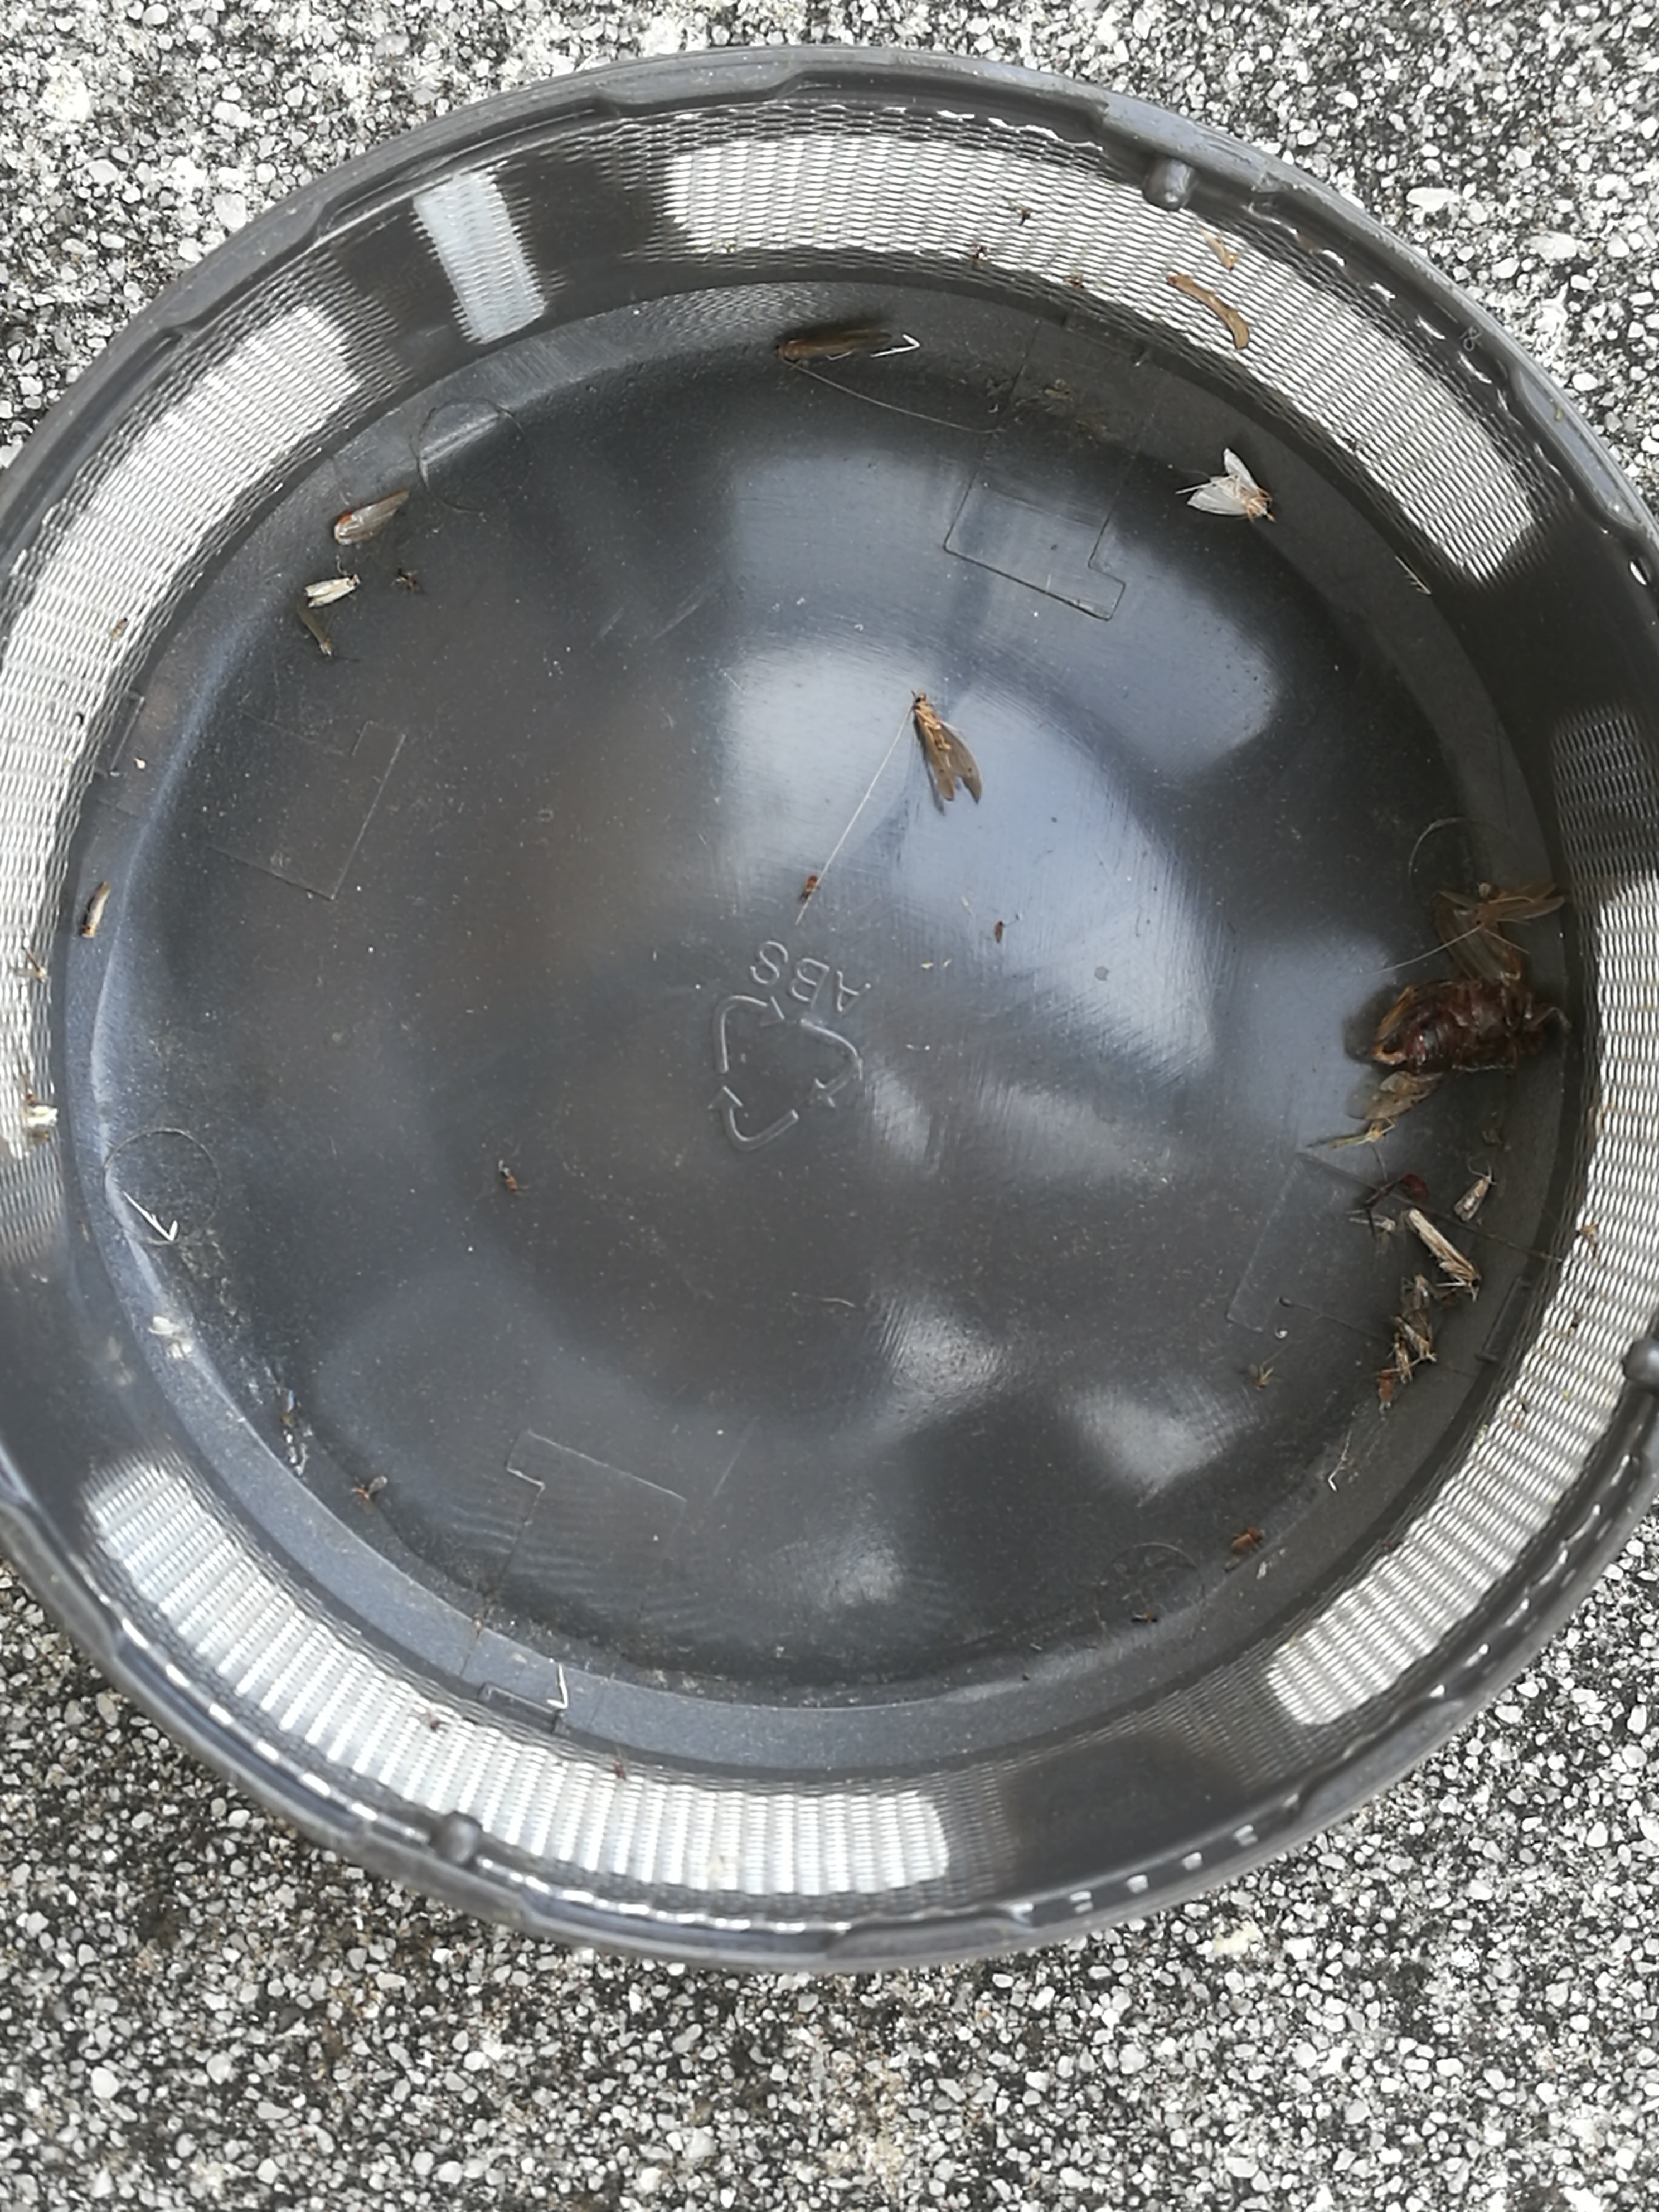beetle: (1375, 979, 1546, 1071)
mosquito: (1405, 1209, 1481, 1296), (774, 329, 894, 357), (1392, 1313, 1431, 1364), (1453, 1176, 1492, 1219), (1378, 1073, 1445, 1096), (305, 578, 357, 606), (82, 885, 106, 937)
moth: (1474, 885, 1567, 972), (915, 695, 979, 806), (1190, 449, 1270, 516)
